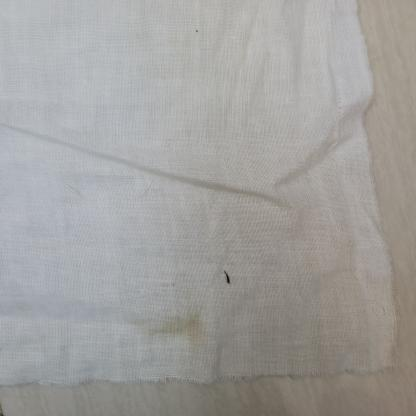spot: (194, 28, 201, 34)
